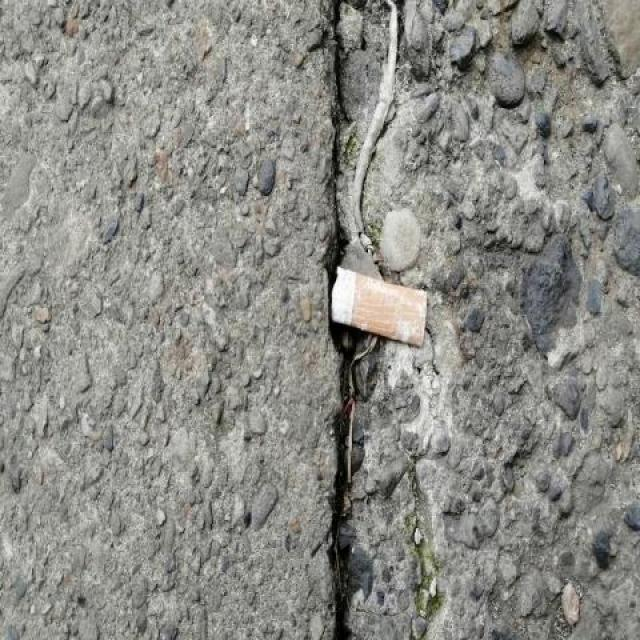non-organic waste: (327, 261, 432, 352)
